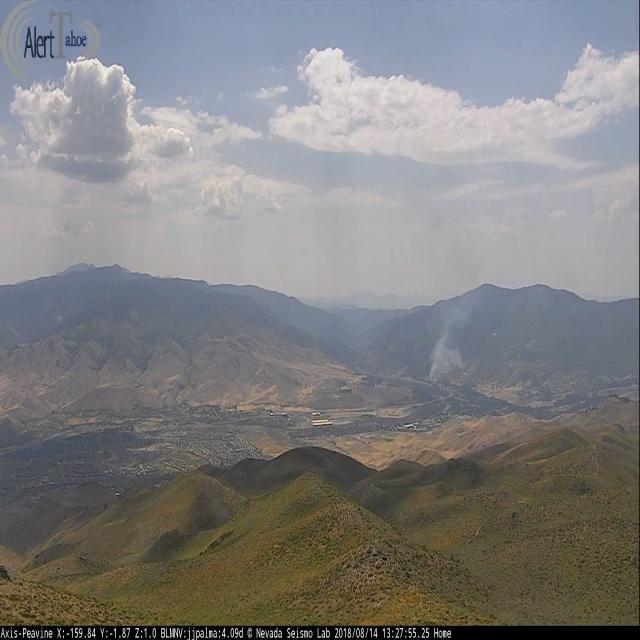smoke: (429, 334, 464, 385)
